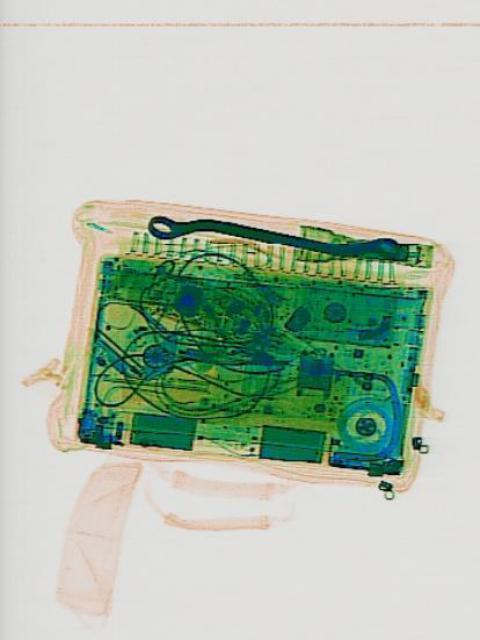Wrench: (144, 210, 395, 262)
